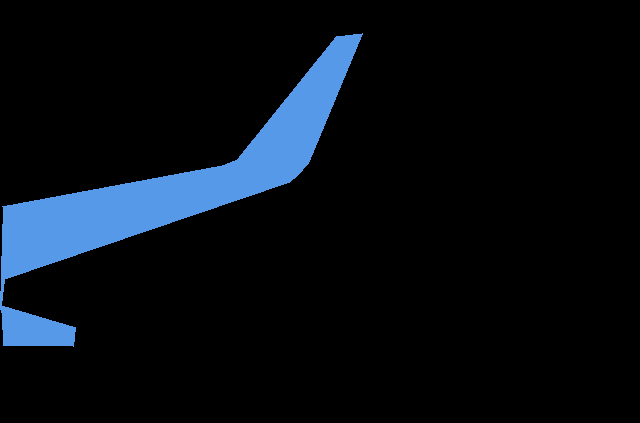Airplane: (0, 33, 362, 346)
